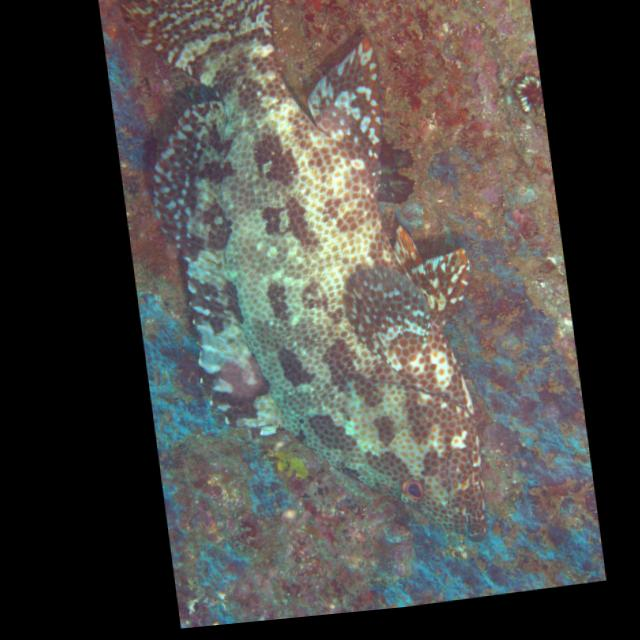Groupers: (109, 0, 508, 585)
